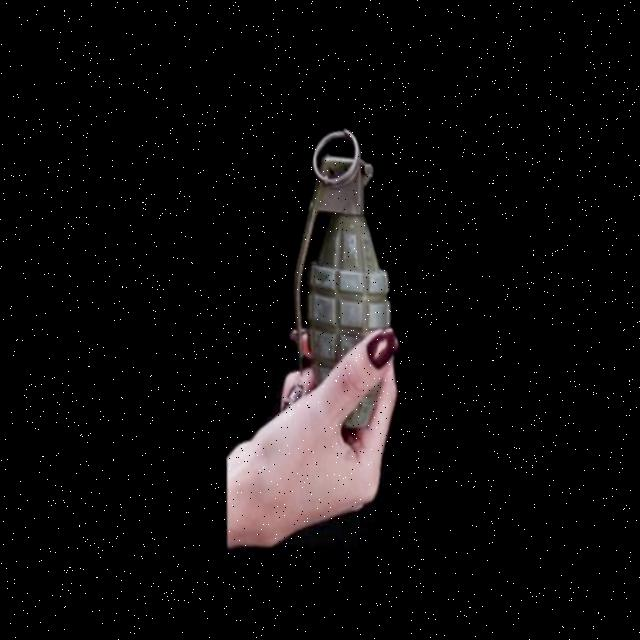grenade: (231, 83, 446, 443)
